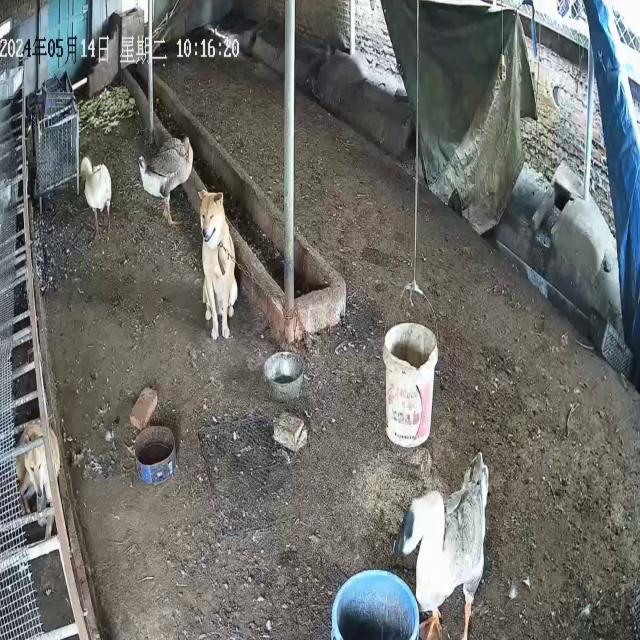dog: (198, 189, 239, 342), (14, 421, 64, 546)
